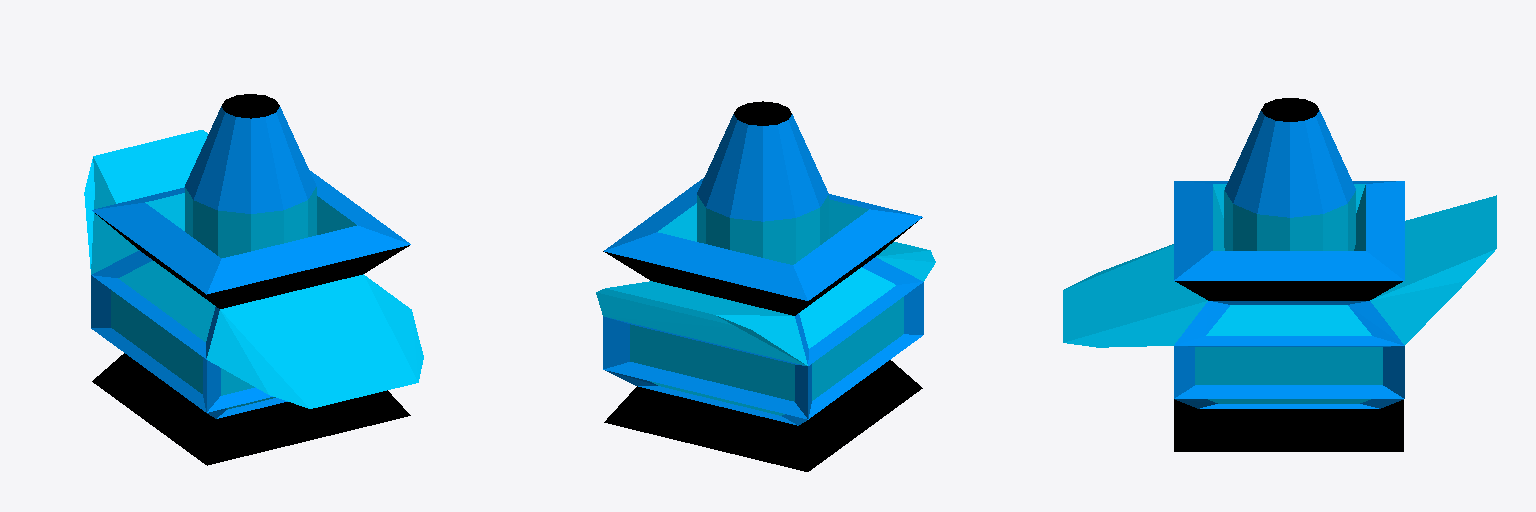
File: Statue_02.obj
3 views of the same model, side by side, from view 1: azimuth 30°, elevation 25°; view 2: azimuth 150°, elevation 25°; view 3: azimuth 270°, elevation 25° (orthographic).
Visible parts, largest first — view 1: Statue_02; view 2: Statue_02; view 3: Statue_02.
Boxes of the visible parts, x1,y1,x2,y2 form: Statue_02: [84, 94, 423, 465]; Statue_02: [596, 101, 935, 471]; Statue_02: [1063, 98, 1496, 451].
Bounding box in the file's own units: 0.5059 × 0.6878 × 0.9263.